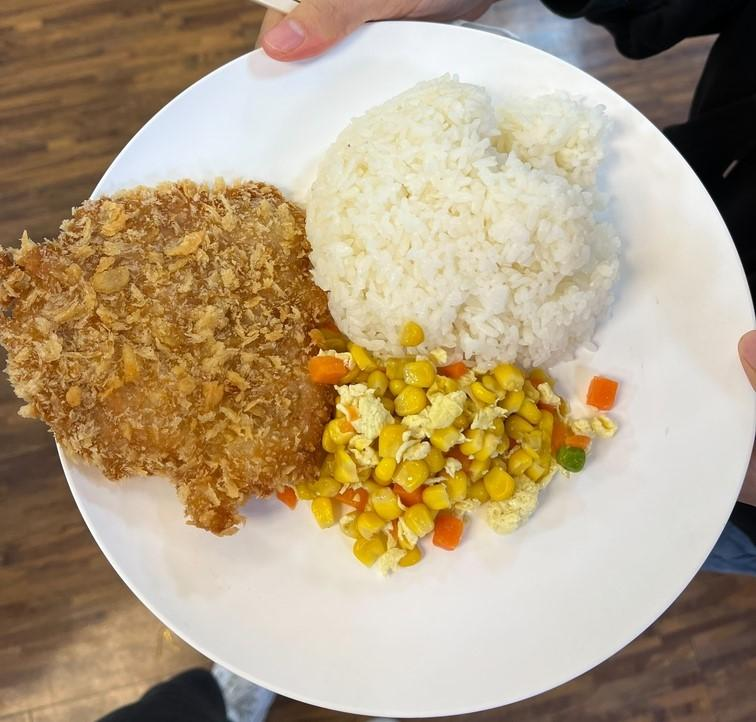big fried chicken leg: (42, 30, 756, 722)
big herbal chicken leg: (312, 87, 632, 366)
braised fish fillet: (311, 357, 578, 563)
braised pork: (0, 182, 334, 527)
